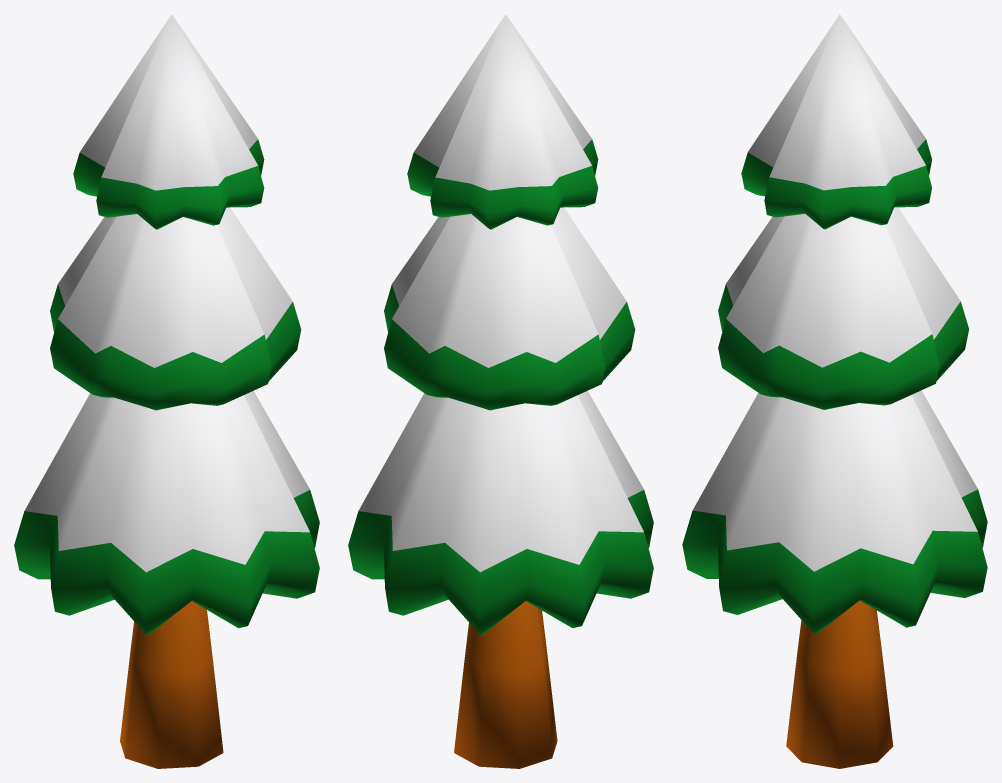
The model's file is Tree_01_snow.fbx.
3 renders of one model, left to right at view 1: azimuth 30°, elevation 25°; view 2: azimuth 150°, elevation 25°; view 3: azimuth 270°, elevation 25°, orthographic.
Parts seen in each view (by area): view 1: Tree_01_snow; view 2: Tree_01_snow; view 3: Tree_01_snow.
Boxes of the visible parts, x1=… form: Tree_01_snow: x1=14, y1=14, x2=319, y2=768; Tree_01_snow: x1=348, y1=14, x2=653, y2=768; Tree_01_snow: x1=682, y1=14, x2=987, y2=768.
Bounding box in the file's own units: 127 × 125 × 332.
